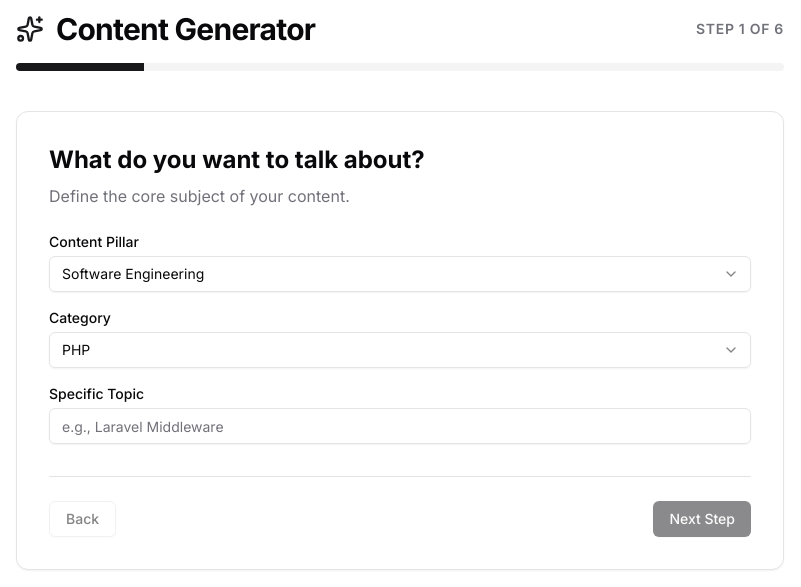
Test case: TCOS Core Flow › Generator renders as wizard and can interact
In the field with placeholder "e.g., Laravel Middleware": (400, 426) [49, 408, 751, 444], type "Laravel Test"
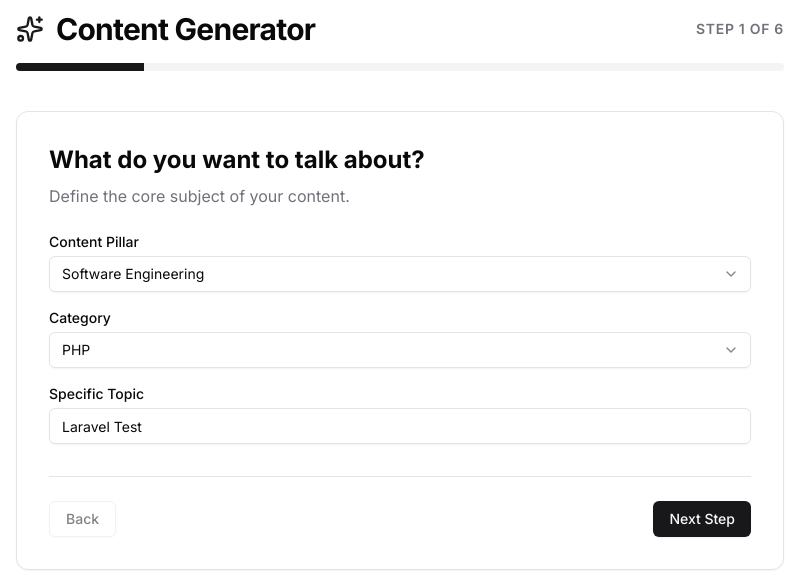
Click the button "Next Step": (702, 519) [653, 501, 751, 537]
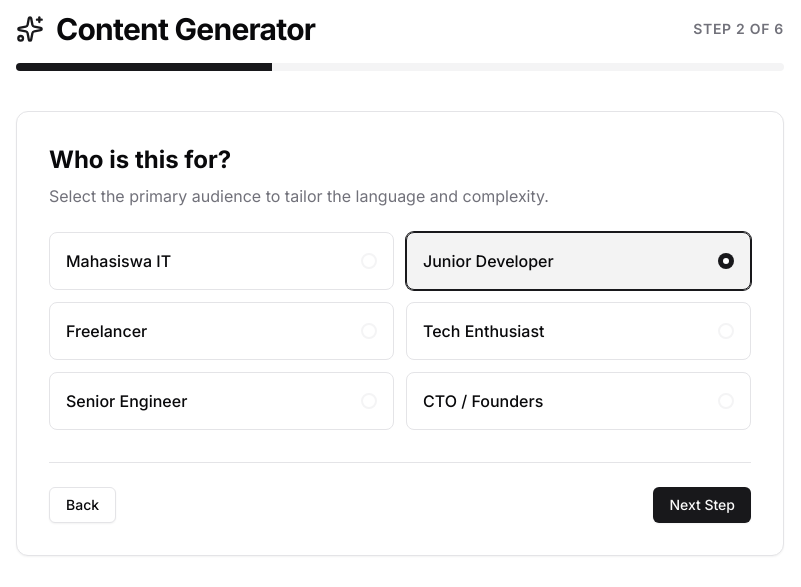
Check: the text "Who is this for?" is shown, box [49, 145, 231, 174]
